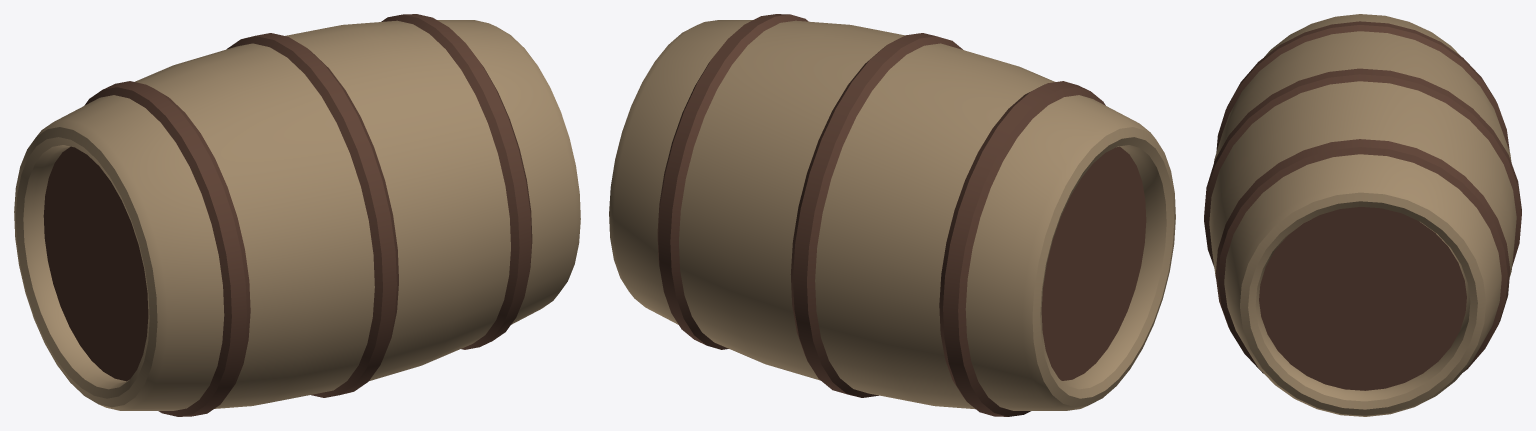
File: Barril.fbx
The picture shows the model from 3 angles, left to right: view 1: azimuth 30°, elevation 25°; view 2: azimuth 150°, elevation 25°; view 3: azimuth 270°, elevation 25°; orthographic projection. The views are drawn at different scales.
Visible parts, largest first — view 1: Barril; view 2: Barril; view 3: Barril.
Boxes of the visible parts, left/top/right/bottom form: Barril: left=14, top=14, right=580, bottom=416; Barril: left=609, top=14, right=1175, bottom=416; Barril: left=1204, top=14, right=1521, bottom=416.
Bounding box in the file's own units: 54.12 × 40.4 × 40.4.
